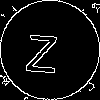Z: (25, 25, 59, 73)
